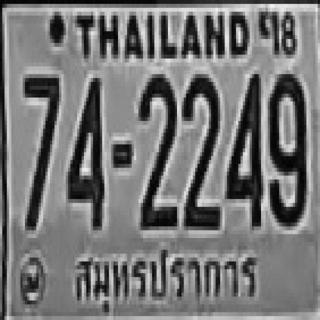N02: (180, 72, 217, 228), (138, 72, 175, 224)
N04: (66, 74, 102, 226), (225, 70, 261, 222)
N07: (23, 72, 59, 228)
N09: (268, 70, 304, 222)
P57: (72, 244, 258, 307)
